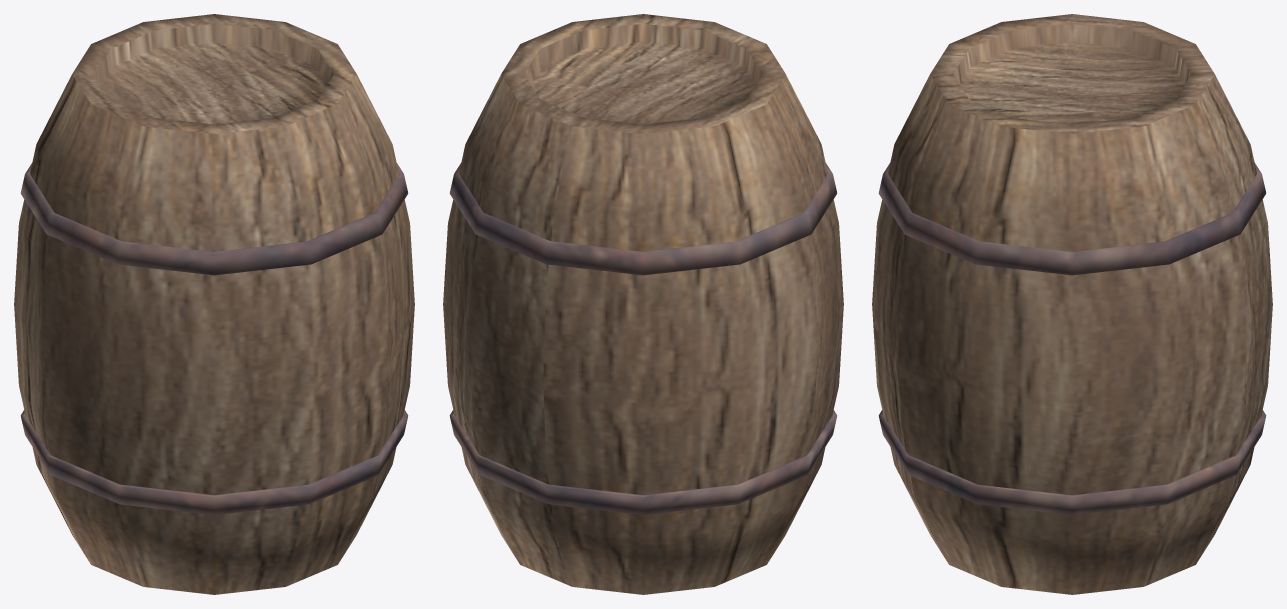
Rendered from Barrell.glb.
The picture shows the model from 3 angles, left to right: view 1: azimuth 30°, elevation 25°; view 2: azimuth 150°, elevation 25°; view 3: azimuth 270°, elevation 25°; orthographic projection.
Parts seen in each view (by area): view 1: Cylinder; view 2: Cylinder; view 3: Cylinder.
Boxes of the visible parts, left/top/right/bottom form: Cylinder: left=14, top=14, right=414, bottom=594; Cylinder: left=443, top=14, right=843, bottom=594; Cylinder: left=872, top=14, right=1272, bottom=594.
Bounding box in the file's own units: 3.17 × 4.02 × 3.17.
1 material, 1 textured.
